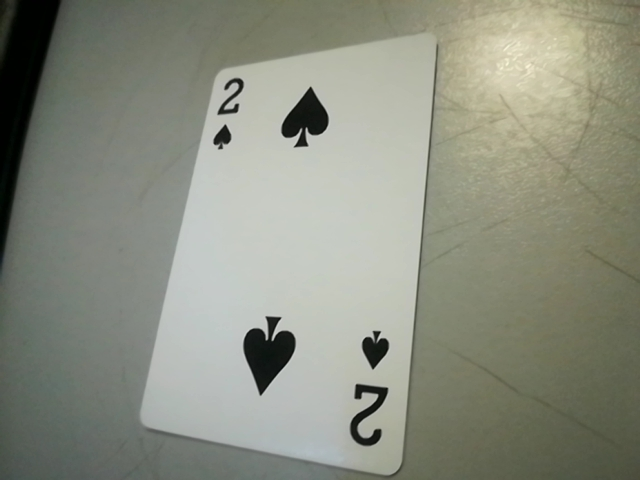ht 2: (337, 317, 403, 465)
